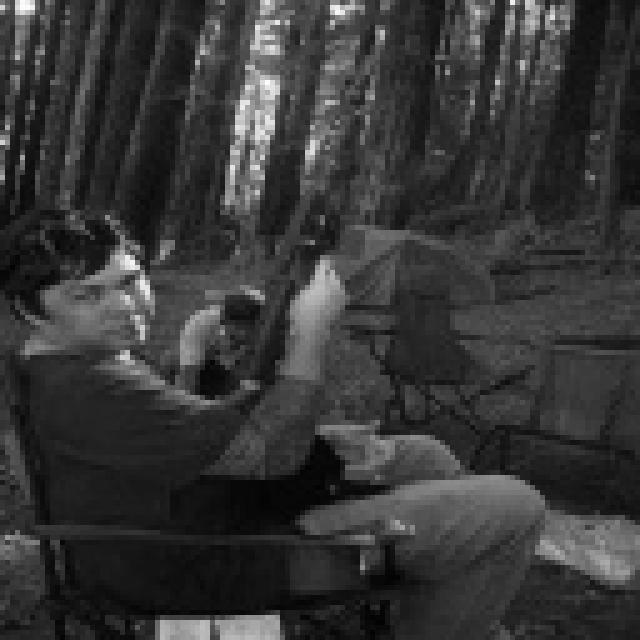Rifle: (209, 0, 401, 413)
